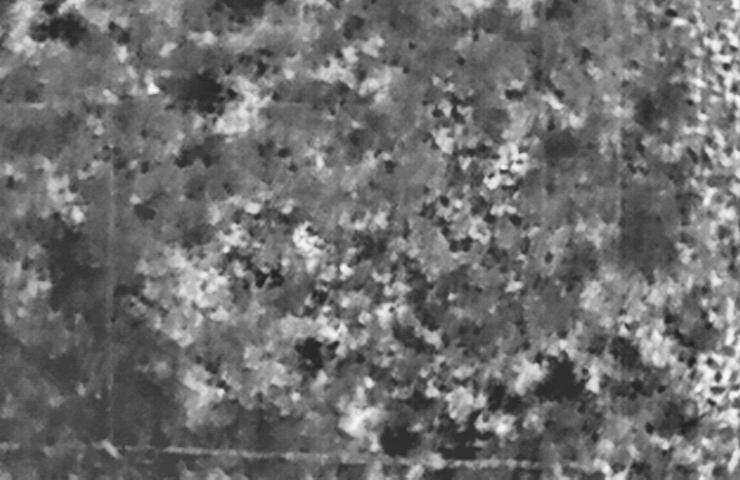landmines: (289, 221, 335, 273)
